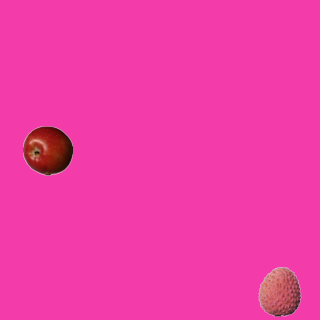Apple Braeburn: (22, 125, 72, 175)
Lychee: (254, 266, 304, 316)
